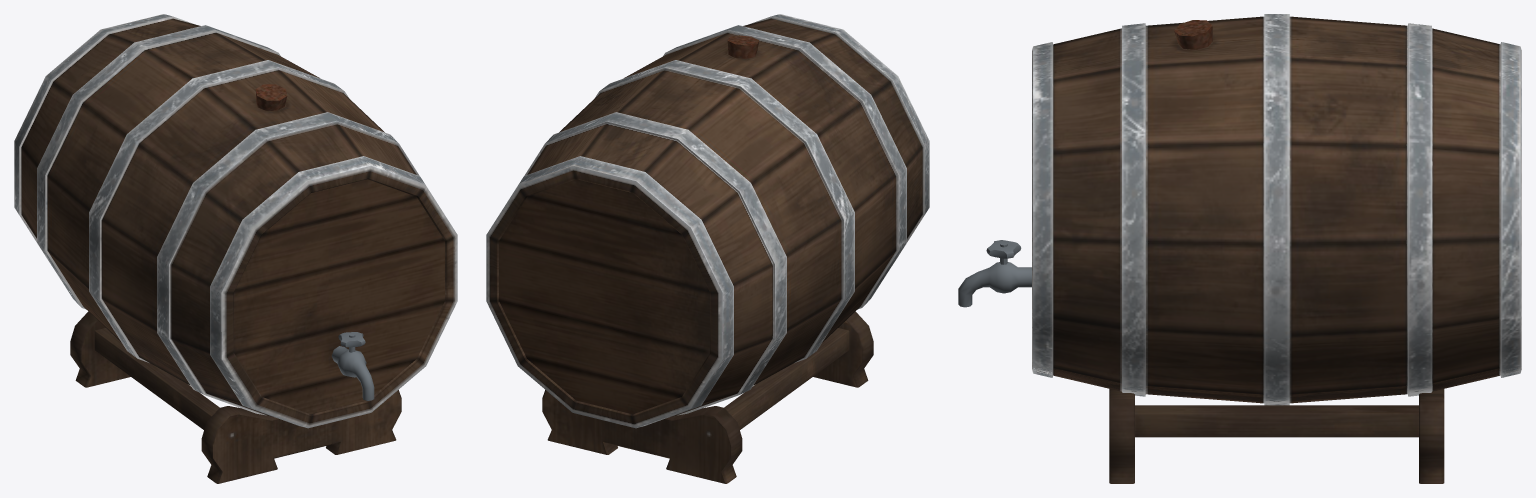
Rendered from keg.fbx.
3 views of the same model, side by side, from view 1: azimuth 30°, elevation 25°; view 2: azimuth 150°, elevation 25°; view 3: azimuth 270°, elevation 25° (orthographic). The views are drawn at different scales.
Visible parts, largest first — view 1: wooden_keg; view 2: wooden_keg; view 3: wooden_keg.
Boxes of the visible parts, left/top/right/bottom form: wooden_keg: left=14, top=14, right=457, bottom=483; wooden_keg: left=486, top=14, right=929, bottom=483; wooden_keg: left=958, top=14, right=1521, bottom=483.
Size of the model in its own units: 45.12 by 52.68 by 66.11.
1 material, 1 textured.
